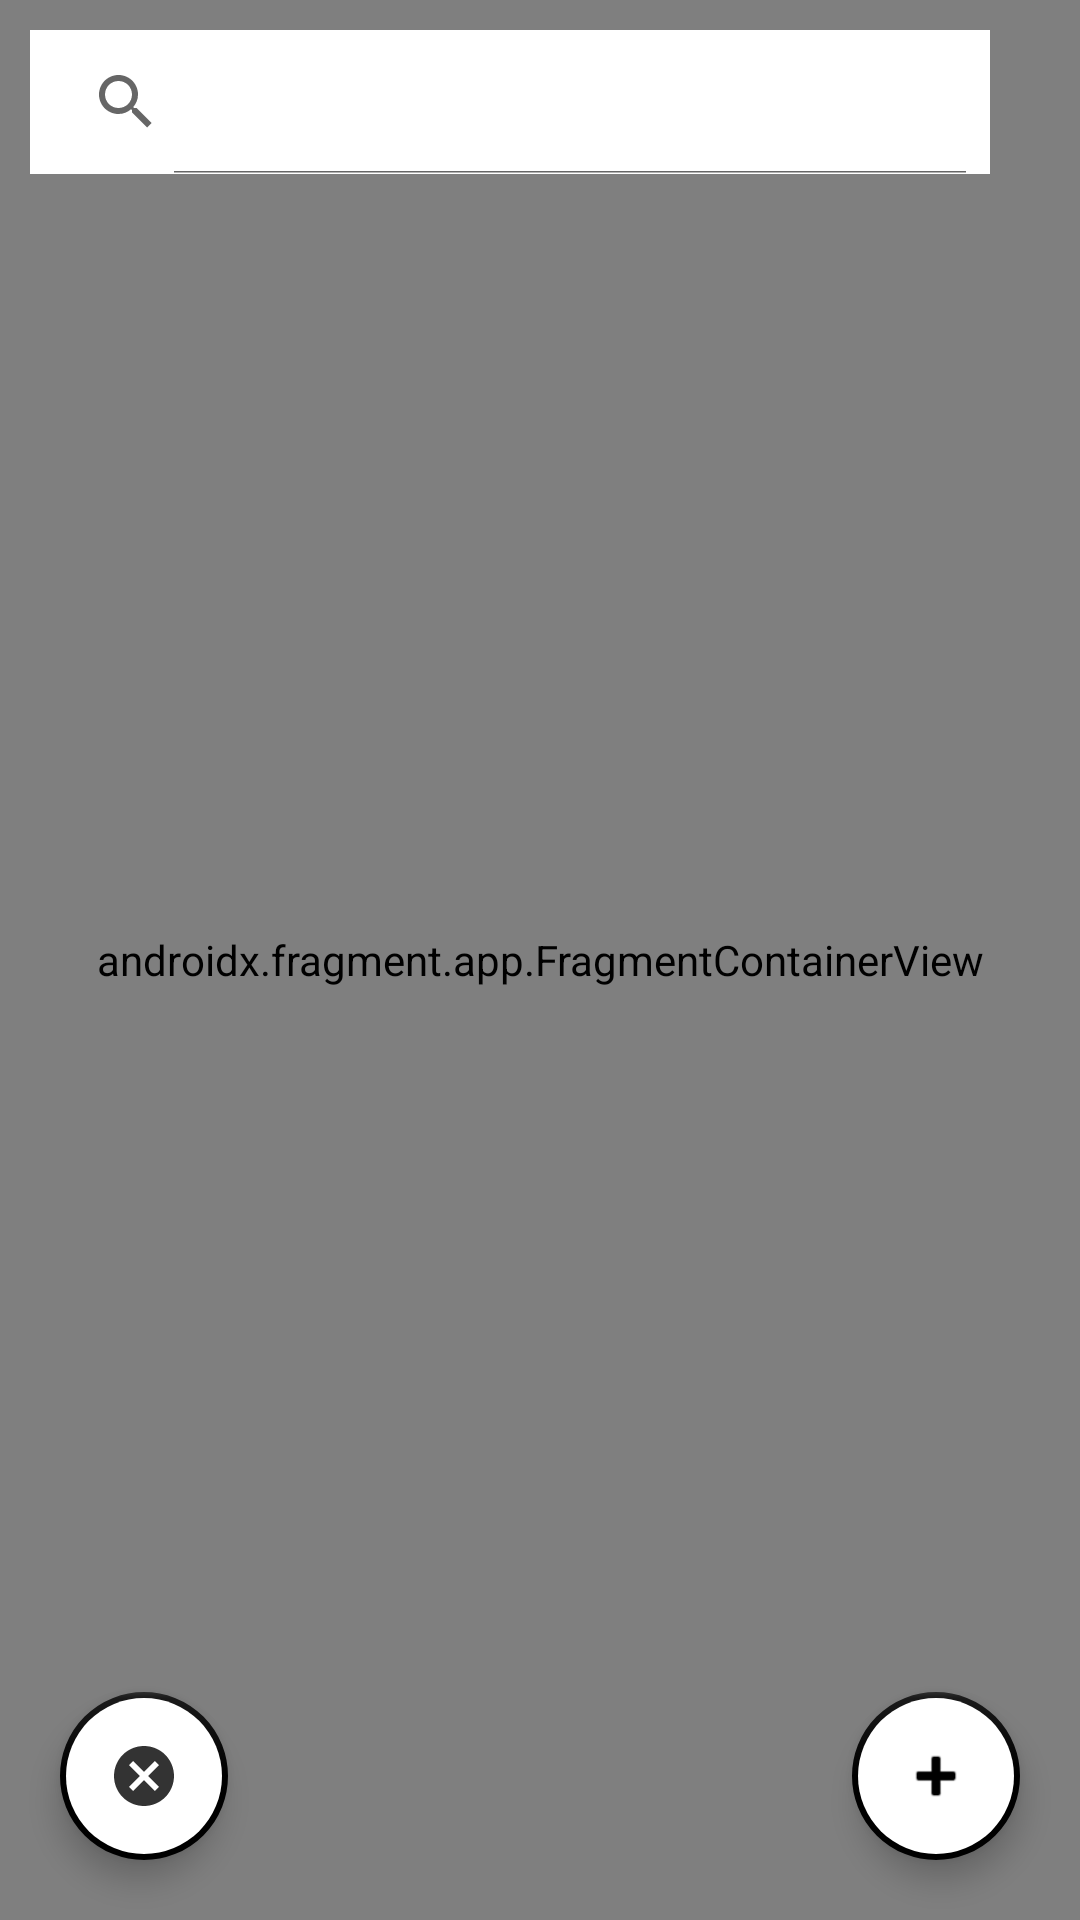

Point at icon controls on the screen. Image size 1080w x 1920h, points as point (x, y).
add: point (936, 1776)
cancel location: point (144, 1776)
